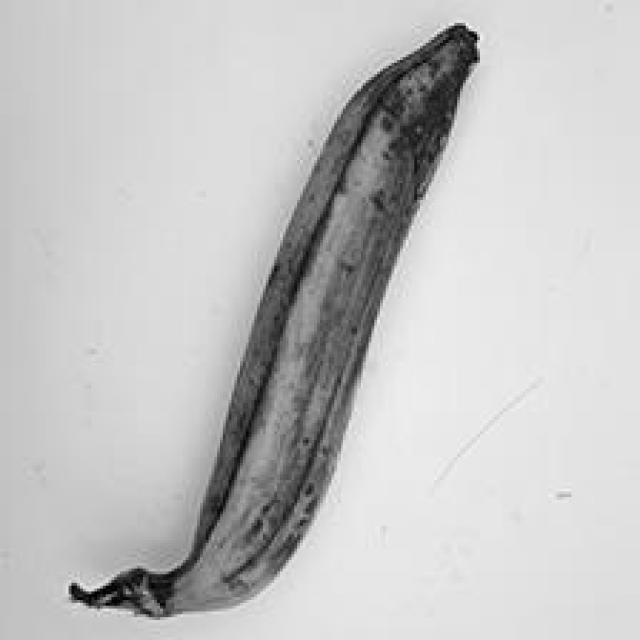Overripe: (62, 11, 493, 620)
